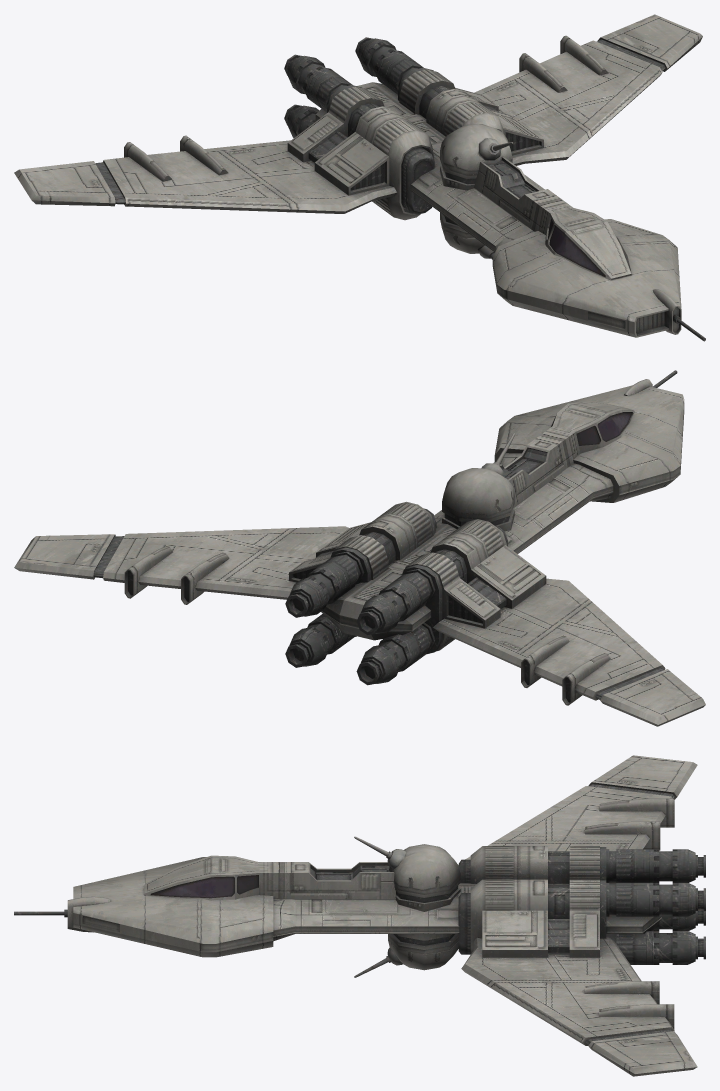
File: Cv_2Warpod.fbx
3 renders of one model, top to bottom at view 1: azimuth 30°, elevation 25°; view 2: azimuth 150°, elevation 25°; view 3: azimuth 270°, elevation 25°, orthographic. The views are drawn at different scales.
Parts seen in each view (by area): view 1: NumberTwoWarpod; view 2: NumberTwoWarpod; view 3: NumberTwoWarpod.
Part boxes in pixels (x1,y1,x2,y2): NumberTwoWarpod: (14,14,705,341); NumberTwoWarpod: (14,370,705,726); NumberTwoWarpod: (14,755,705,1076).
Size of the model in its own units: 2000 by 417 by 1849.
